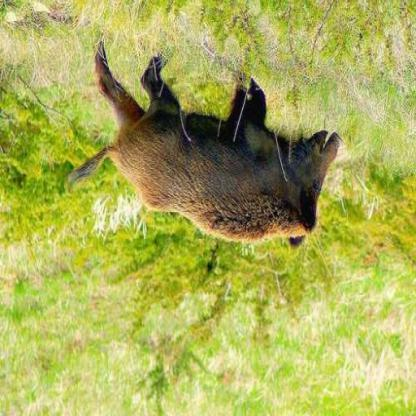boar: (61, 61, 367, 262)
